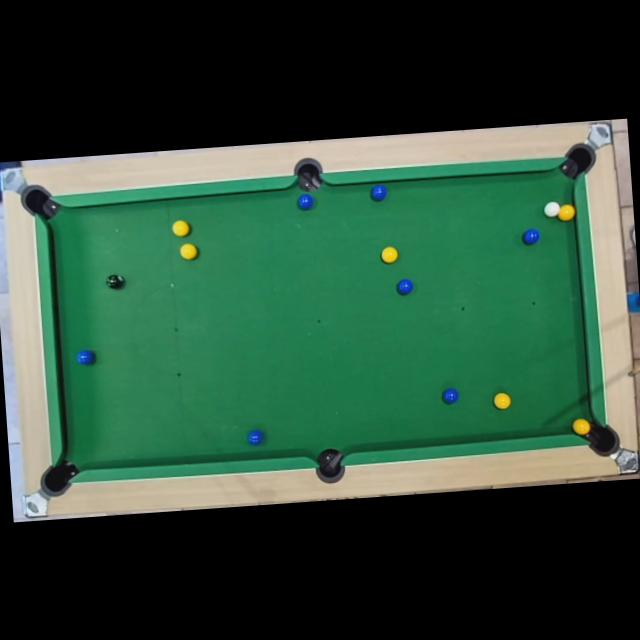Ball: (178, 242, 198, 260), (492, 392, 512, 409), (572, 418, 590, 436), (172, 220, 190, 237), (381, 246, 398, 264), (370, 184, 387, 201), (522, 228, 539, 245), (296, 193, 313, 210), (106, 273, 124, 289), (76, 350, 94, 366), (396, 278, 412, 296), (441, 388, 458, 404), (558, 203, 574, 220), (247, 430, 263, 446), (544, 202, 560, 218)
